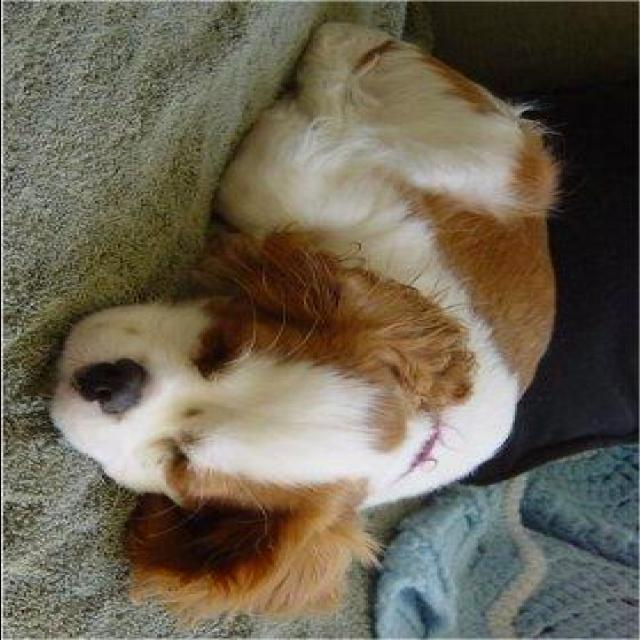blenheim_spaniel: (48, 22, 555, 613)
